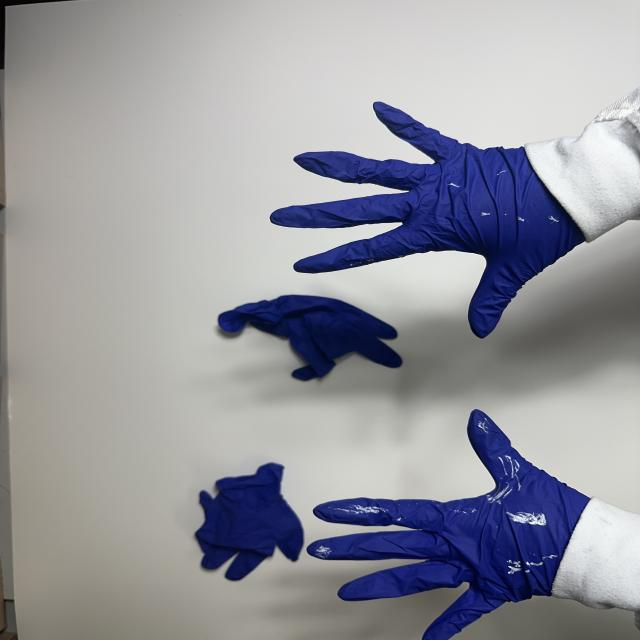gloves_contaminated: (271, 103, 584, 338), (308, 410, 588, 640)
